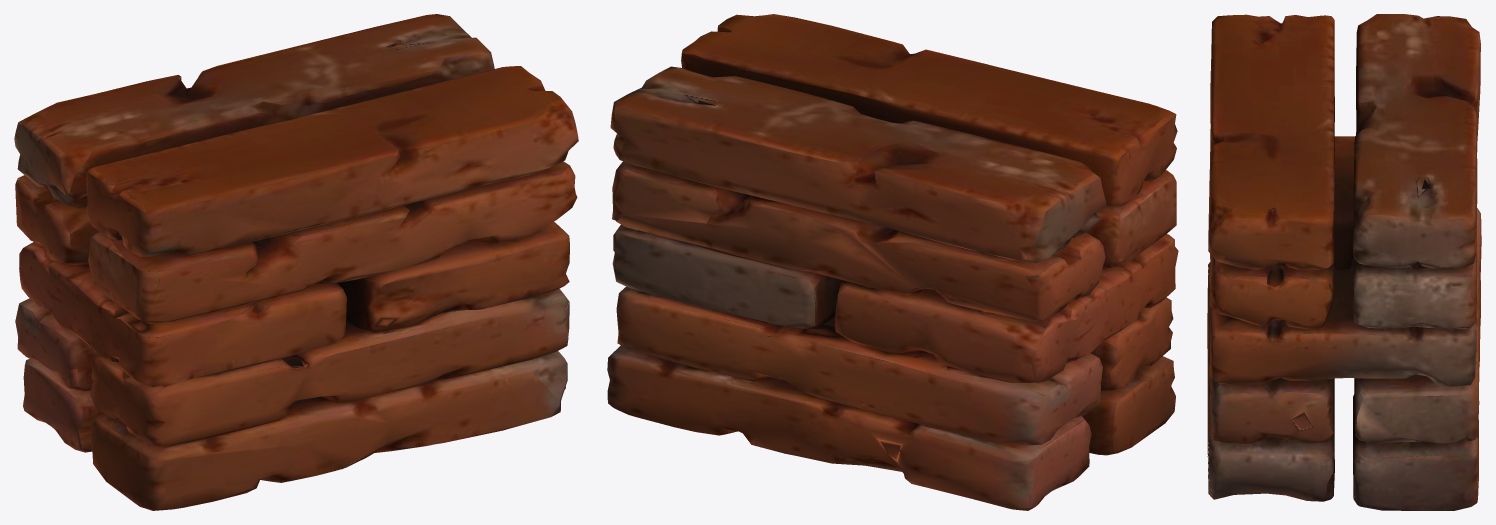
Rendered from ladrillos.glb.
The picture shows the model from 3 angles, left to right: view 1: azimuth 30°, elevation 25°; view 2: azimuth 150°, elevation 25°; view 3: azimuth 270°, elevation 25°; orthographic projection. The views are drawn at different scales.
Visible parts, largest first — view 1: geometry_0; view 2: geometry_0; view 3: geometry_0.
Boxes of the visible parts, x1,y1,x2,y2 form: geometry_0: [14, 14, 578, 510]; geometry_0: [607, 14, 1178, 510]; geometry_0: [1207, 14, 1481, 510].
Bounding box in the file's own units: 0.9 × 0.6002 × 0.5.
1 material, 1 textured.
